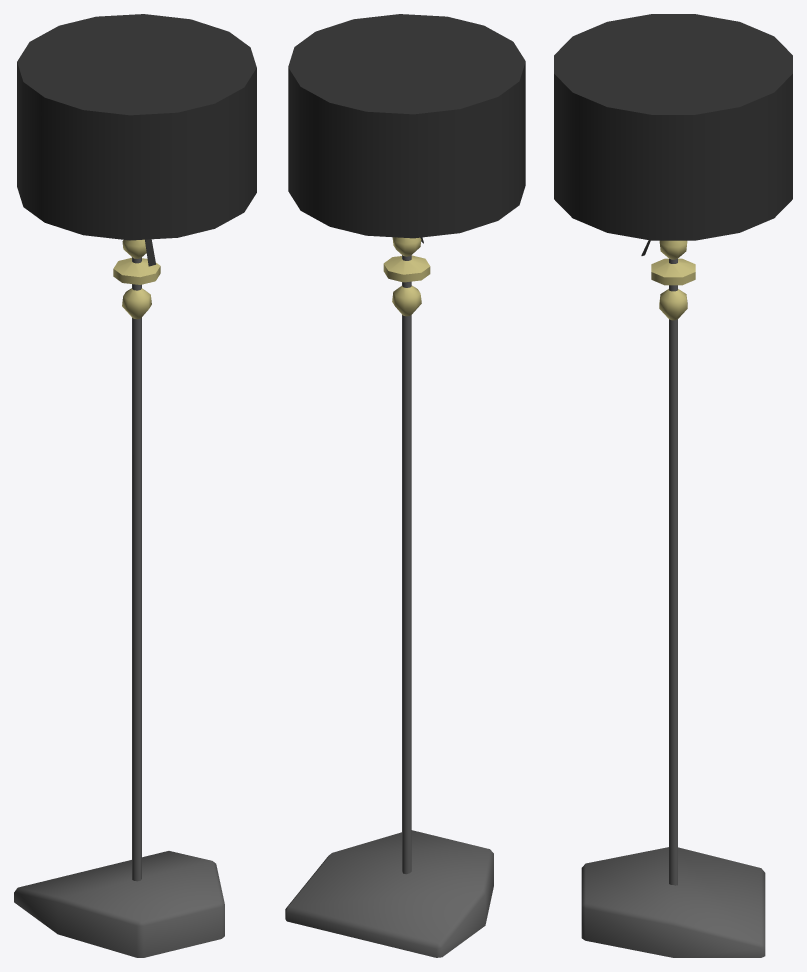
3 renders of one model, left to right at view 1: azimuth 30°, elevation 25°; view 2: azimuth 150°, elevation 25°; view 3: azimuth 270°, elevation 25°, orthographic.
Visible parts, largest first — view 1: Jd013721; view 2: Jd013721; view 3: Jd013721.
Part boxes in pixels (<box>): Jd013721: <box>14,14,256,957</box>; Jd013721: <box>285,14,525,957</box>; Jd013721: <box>554,14,792,957</box>.
Bounding box in the file's own units: 965 × 3810 × 965.
